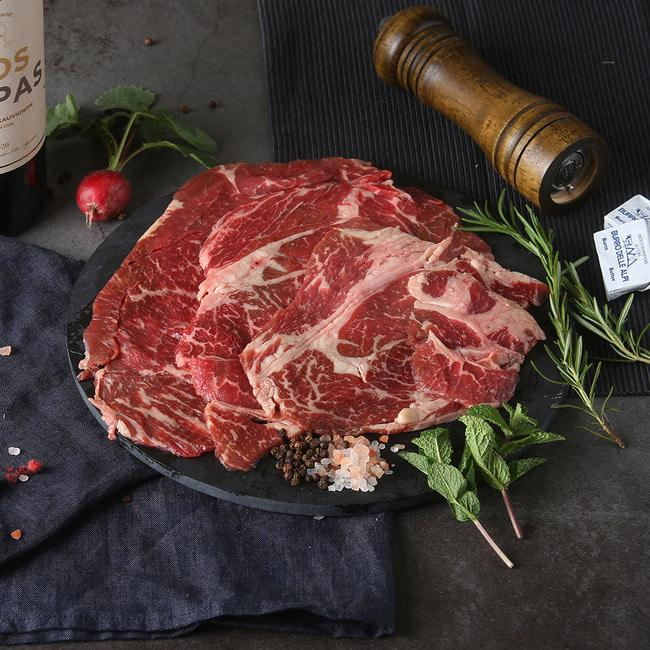beef: (92, 171, 545, 455)
